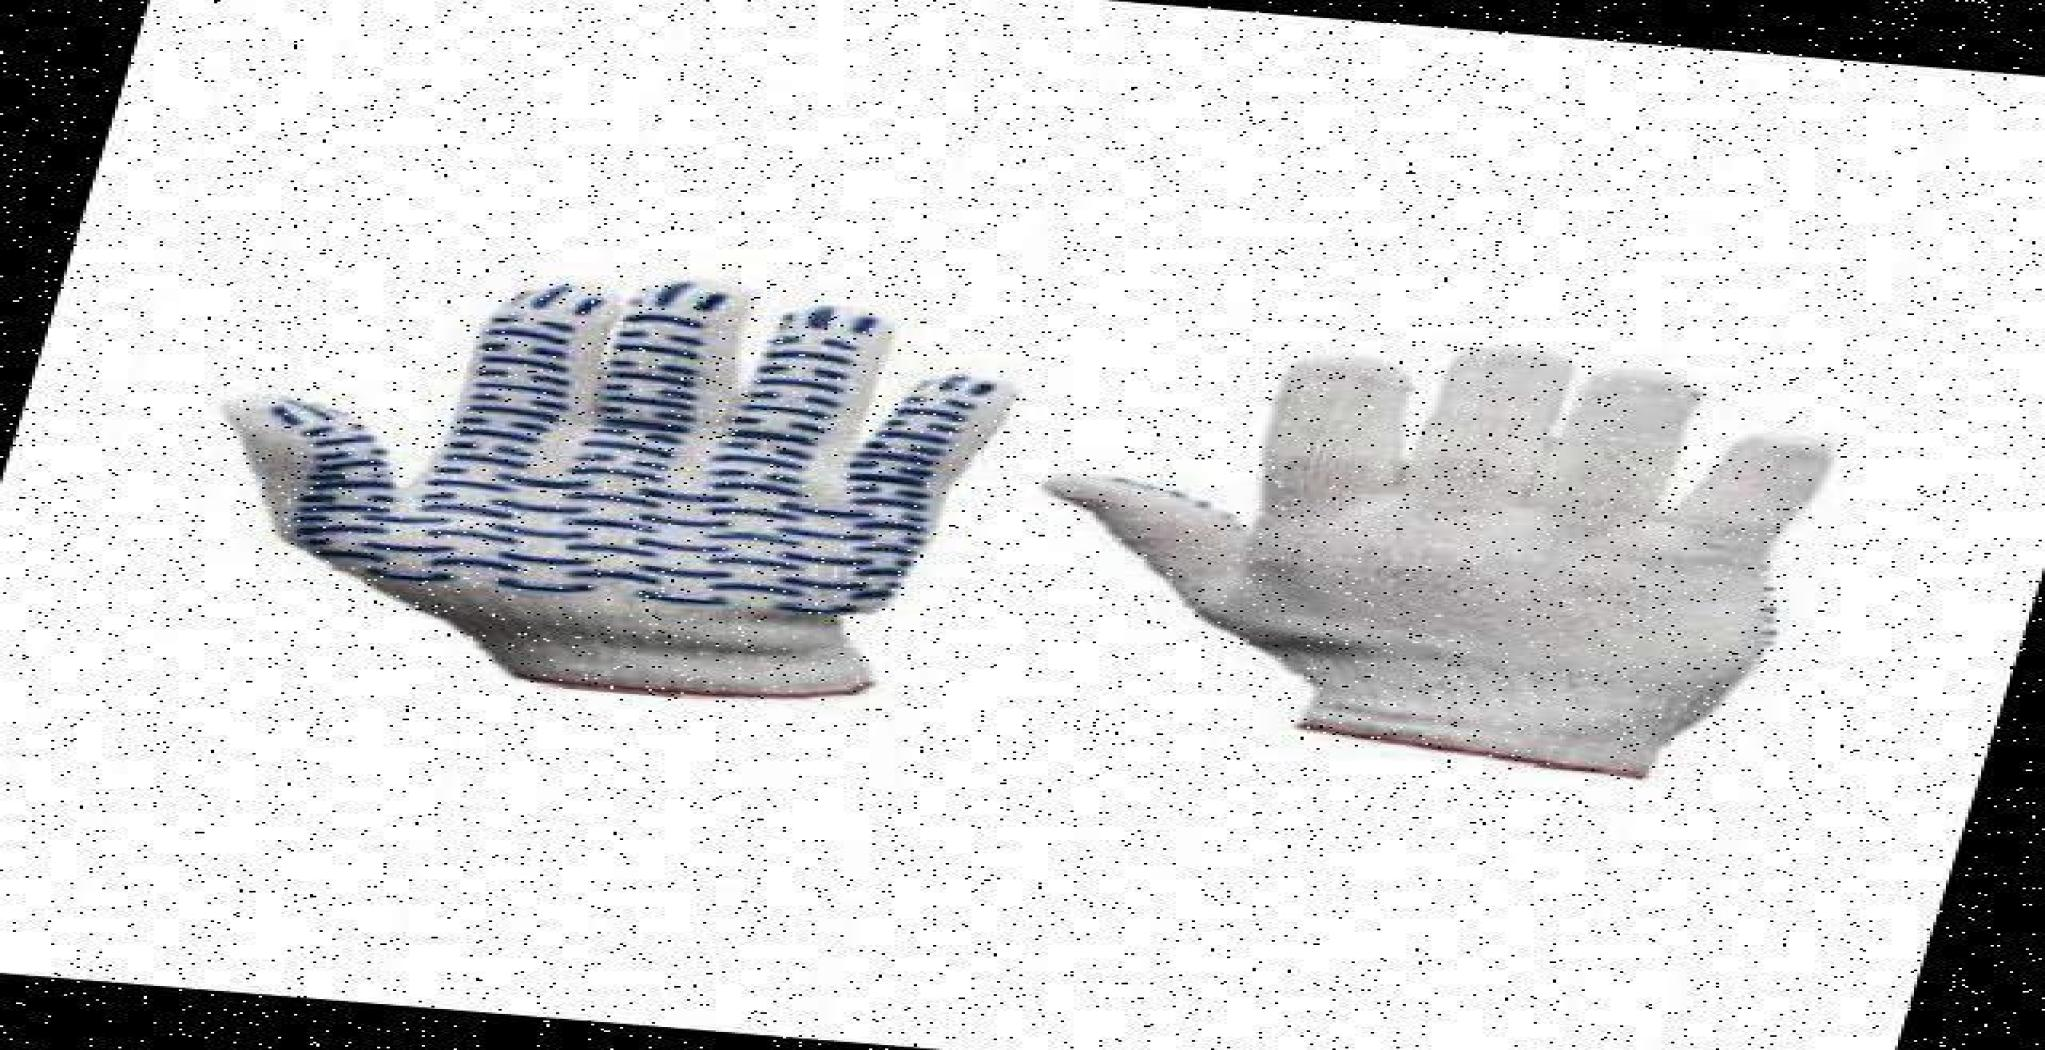gloved: (1035, 343, 1840, 778), (224, 276, 1019, 698)
